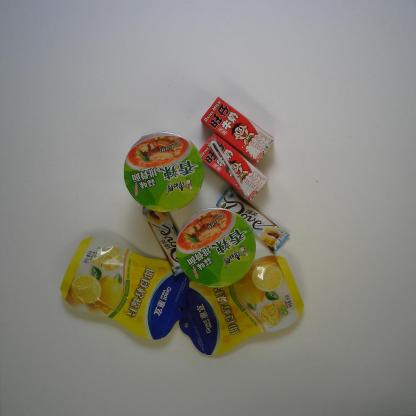Chocolate: (215, 186, 291, 254), (142, 204, 191, 277)
Dried Fruit: (59, 235, 190, 340), (178, 254, 305, 356)
Instant Noodles: (124, 130, 204, 213), (175, 207, 256, 288)
Milk: (200, 96, 275, 164), (198, 133, 269, 202)
